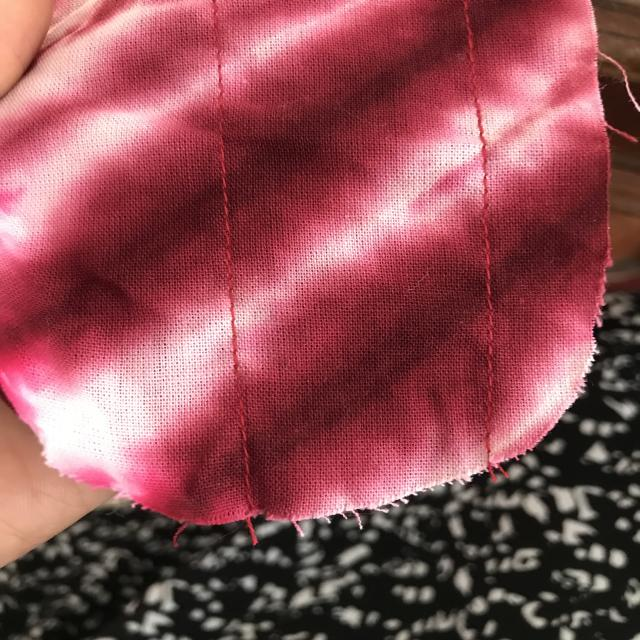good: (213, 177, 248, 271), (478, 328, 512, 402)
